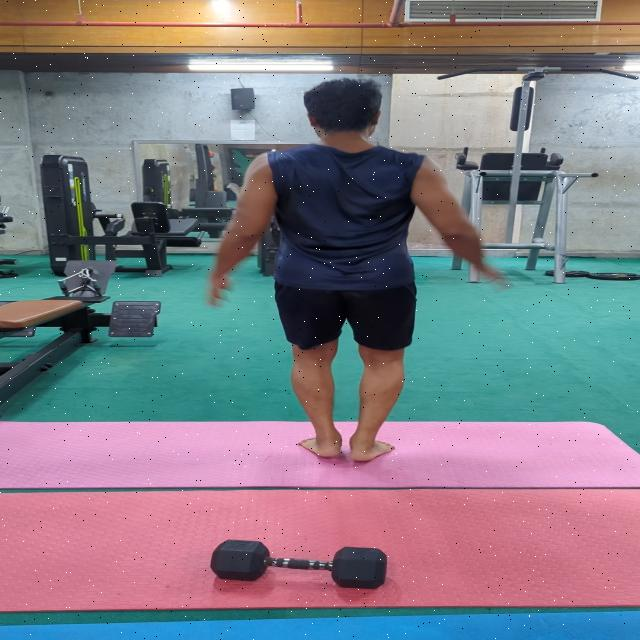Normal_JumpingJacks: (162, 66, 547, 477)
